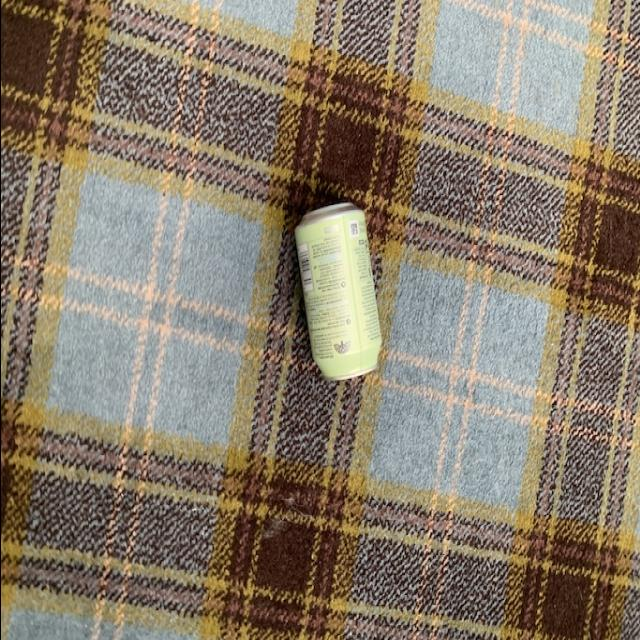Aluminum Can: (286, 199, 376, 385)
